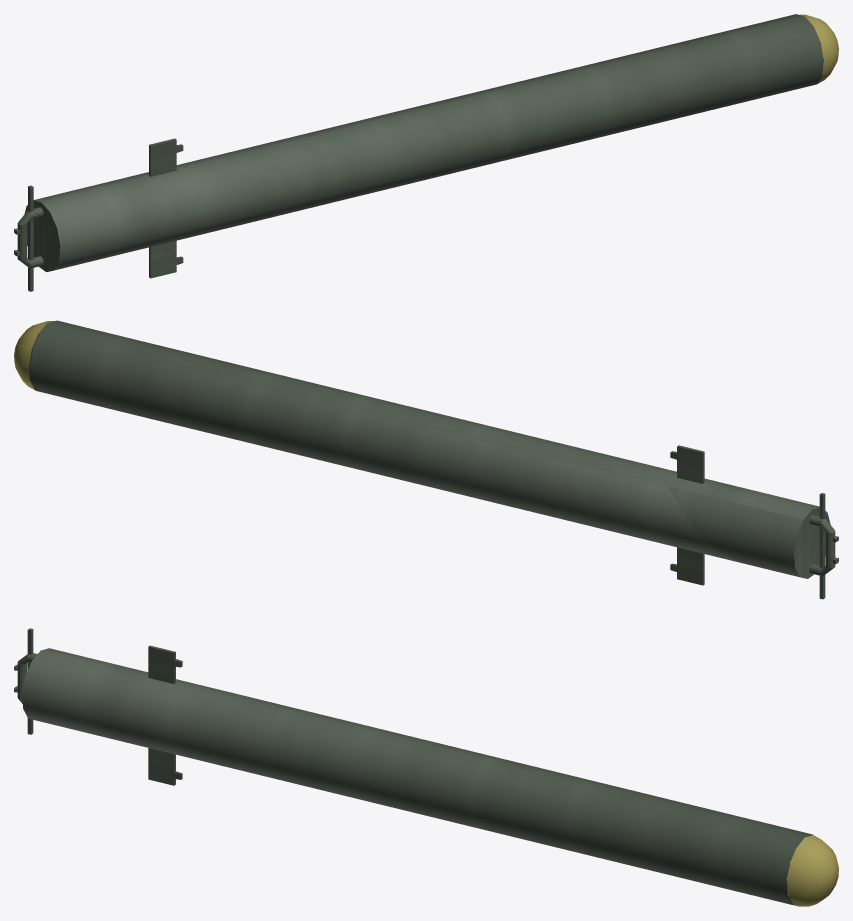
File: Missle3.fbx
The picture shows the model from 3 angles, top to bottom: view 1: azimuth 30°, elevation 25°; view 2: azimuth 150°, elevation 25°; view 3: azimuth 330°, elevation 25°; orthographic projection.
Visible parts, largest first — view 1: pCylinder4, pCube11, pCube12, pCylinder9, pCube13; view 2: pCylinder4, pCube11, pCube12, pCylinder9, pCube13; view 3: pCylinder4, pCube11, pCube12.
Part boxes in pixels (left/top/right/bottom): pCylinder4: left=24, top=14, right=838, bottom=271; pCube11: left=149, top=138, right=183, bottom=176; pCube12: left=149, top=240, right=183, bottom=278; pCylinder9: left=14, top=207, right=43, bottom=268; pCube13: left=28, top=185, right=33, bottom=291; pCylinder4: left=14, top=320, right=830, bottom=578; pCube11: left=670, top=445, right=704, bottom=483; pCube12: left=670, top=547, right=704, bottom=585; pCylinder9: left=809, top=515, right=838, bottom=576; pCube13: left=819, top=493, right=825, bottom=599; pCylinder4: left=22, top=648, right=838, bottom=906; pCube11: left=148, top=645, right=182, bottom=683; pCube12: left=148, top=748, right=182, bottom=785.
Bounding box in the file's own units: 4.95 × 0.7668 × 0.3865.
1 material, 1 textured.
